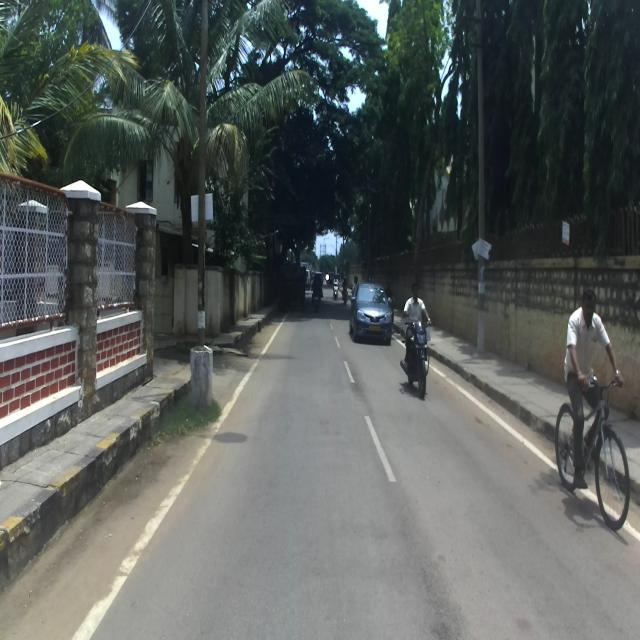bicycle ahead at: (552, 366, 630, 531)
car ahead at: (354, 275, 396, 352)
electric pole ahead at: (188, 0, 220, 419), (471, 4, 496, 363)
motorcycle ahead at: (401, 312, 434, 399)
